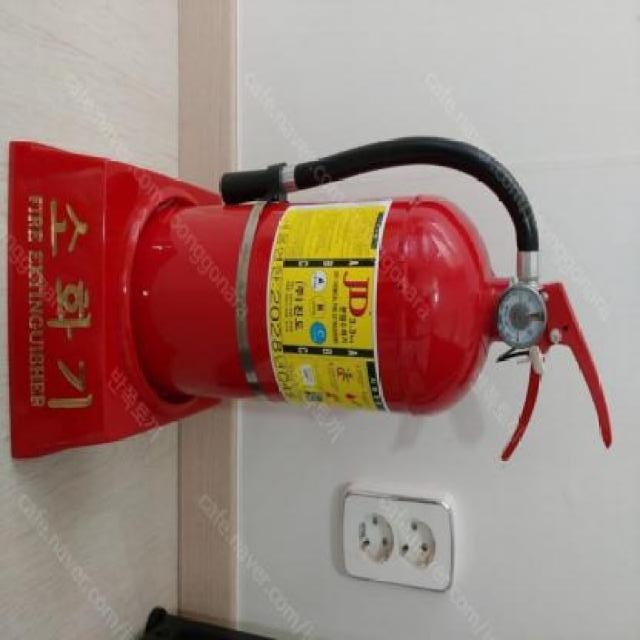fire extinguisher: (129, 136, 611, 461)
